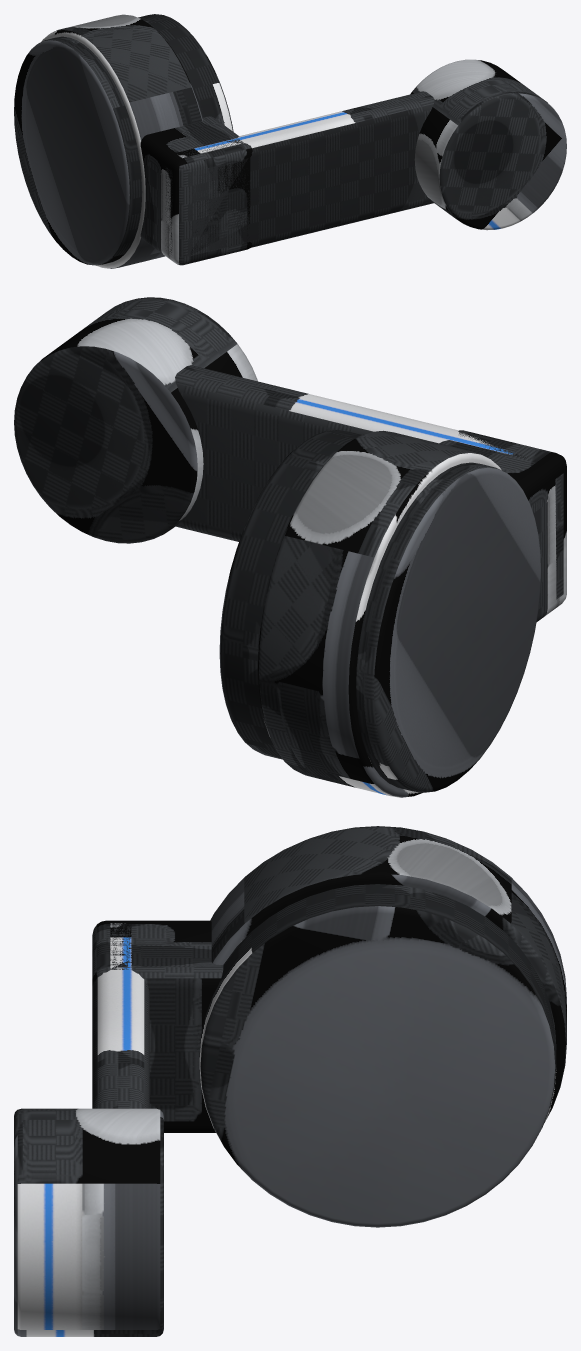
Rendered from right_hip_yaw.obj.
3 renders of one model, top to bottom at view 1: azimuth 30°, elevation 25°; view 2: azimuth 150°, elevation 25°; view 3: azimuth 270°, elevation 25°, orthographic. The views are drawn at different scales.
Visible parts, largest first — view 1: right_hip_yaw; view 2: right_hip_yaw; view 3: right_hip_yaw.
Boxes of the visible parts, x1=… form: right_hip_yaw: x1=14, y1=14, x2=566, y2=268; right_hip_yaw: x1=14, y1=297, x2=566, y2=797; right_hip_yaw: x1=14, y1=826, x2=566, y2=1336.
Bounding box in the file's own units: 0.1895 × 0.106 × 0.155.
Materials: 1 (1 with a texture image).
